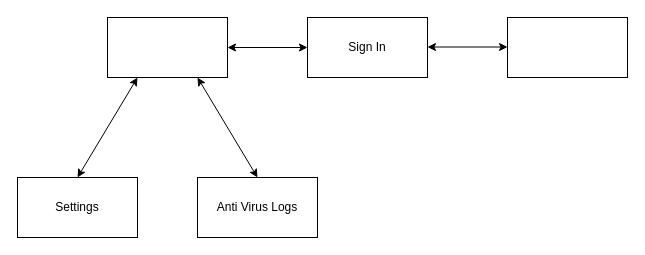
The diagram is 645 pixels wide and 255 high, and some of its shapes have lost their labels. Here are the shapes that lost their labels. From the top down, the centre of each, then its label:
At (167,47): "Home page".
At (567,47): "Register".
